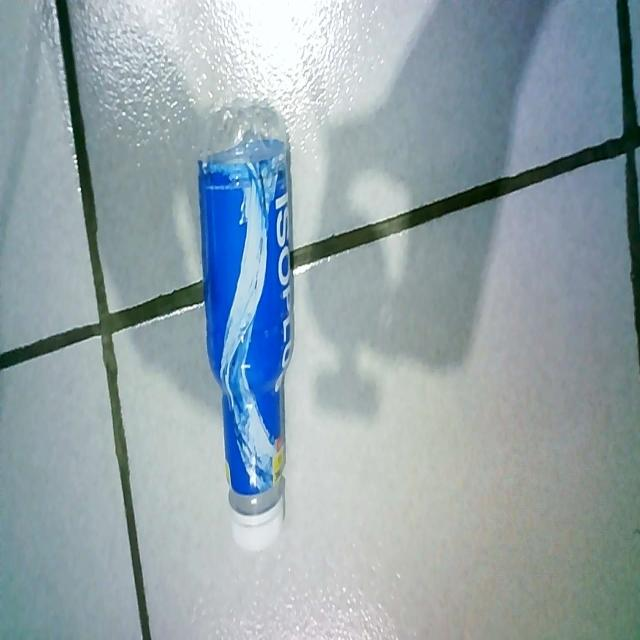botol: (169, 90, 328, 576)
